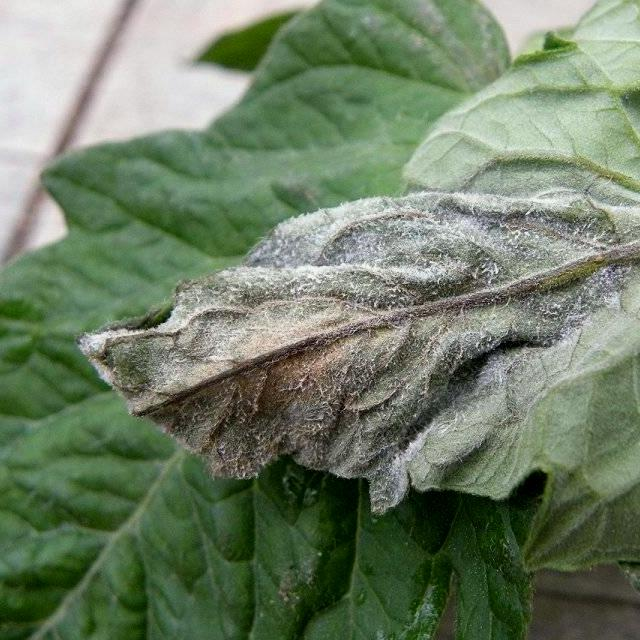Tomato leaf late blight: (65, 0, 640, 573)
